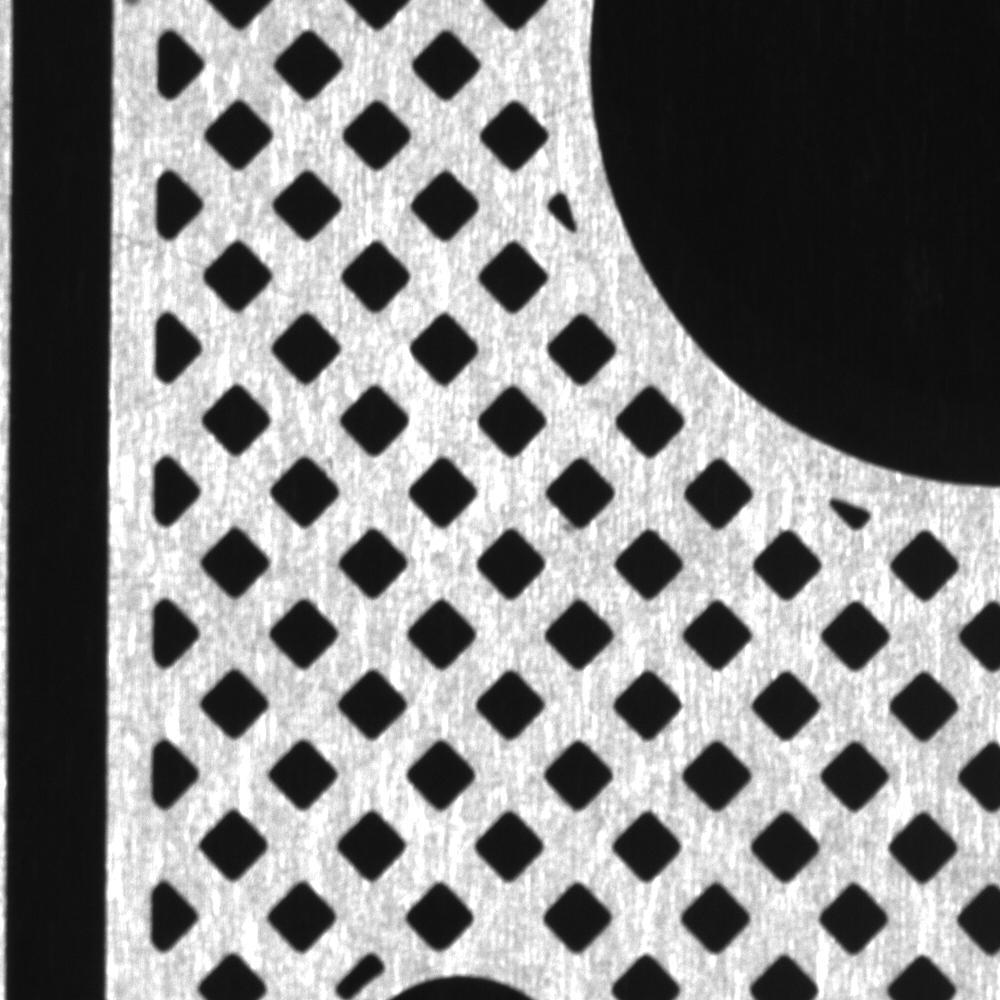Scar: (113, 223, 207, 269)
